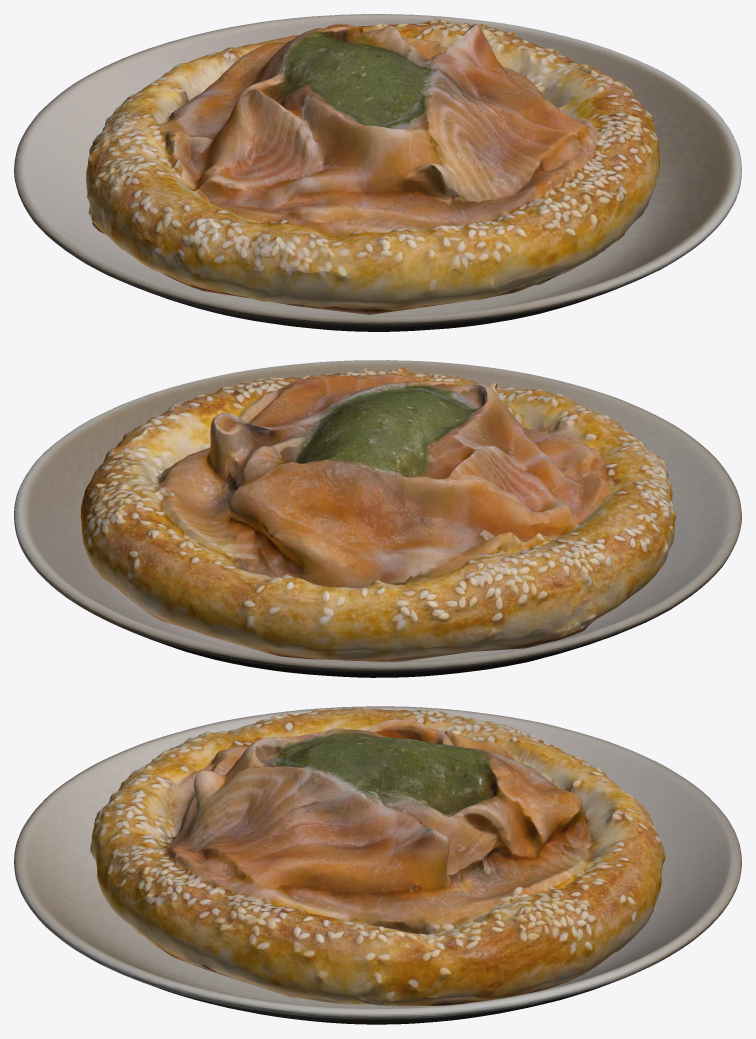
Rendered from set.salmomln.001.glb.
3 views of the same model, one above another, from view 1: azimuth 30°, elevation 25°; view 2: azimuth 150°, elevation 25°; view 3: azimuth 270°, elevation 25° (orthographic).
Parts seen in each view (by area): view 1: /Root/Scenes/Scene/Object_49/Object_50/Submesh_0, /Root/Scenes/Scene/Object_49/Object_53/Object_54/Submesh_0; view 2: /Root/Scenes/Scene/Object_49/Object_50/Submesh_0, /Root/Scenes/Scene/Object_49/Object_53/Object_54/Submesh_0; view 3: /Root/Scenes/Scene/Object_49/Object_50/Submesh_0, /Root/Scenes/Scene/Object_49/Object_53/Object_54/Submesh_0.
Boxes of the visible parts, x1,y1,x2,y2 form: /Root/Scenes/Scene/Object_49/Object_50/Submesh_0: [86, 18, 659, 314]; /Root/Scenes/Scene/Object_49/Object_53/Object_54/Submesh_0: [14, 14, 741, 331]; /Root/Scenes/Scene/Object_49/Object_50/Submesh_0: [80, 367, 676, 661]; /Root/Scenes/Scene/Object_49/Object_53/Object_54/Submesh_0: [14, 360, 741, 677]; /Root/Scenes/Scene/Object_49/Object_50/Submesh_0: [90, 707, 665, 1006]; /Root/Scenes/Scene/Object_49/Object_53/Object_54/Submesh_0: [14, 706, 741, 1024].
Size of the model in its own units: 0.2201 by 0.0555 by 0.2201.
2 materials, 2 textured.
